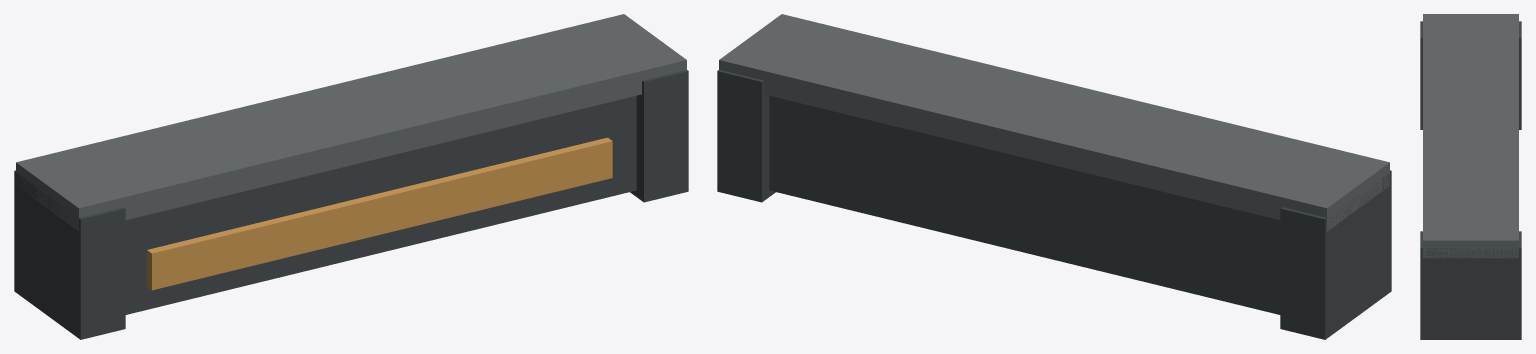
The model's file is heater.glb.
3 views of the same model, side by side, from view 1: azimuth 30°, elevation 25°; view 2: azimuth 150°, elevation 25°; view 3: azimuth 270°, elevation 25° (orthographic). The views are drawn at different scales.
Visible parts, largest first — view 1: heater_top, heater_body, heating_element, heater_end_left, heater_end_right; view 2: heater_top, heater_body, heater_end_left, heater_end_right; view 3: heater_top, heater_end_right, heater_end_left.
Boxes of the visible parts, bbox=[...] form: heater_top: bbox=[16, 14, 686, 231]; heater_body: bbox=[125, 95, 636, 314]; heating_element: bbox=[147, 137, 612, 290]; heater_end_left: bbox=[14, 170, 125, 339]; heater_end_right: bbox=[630, 69, 688, 202]; heater_top: bbox=[719, 14, 1389, 231]; heater_body: bbox=[769, 95, 1280, 314]; heater_end_left: bbox=[1280, 170, 1391, 339]; heater_end_right: bbox=[717, 69, 775, 202]; heater_top: bbox=[1423, 14, 1518, 258]; heater_end_right: bbox=[1420, 231, 1521, 339]; heater_end_left: bbox=[1420, 21, 1521, 129].
Bounding box in the file's own units: 0.95 × 0.1945 × 0.18.
